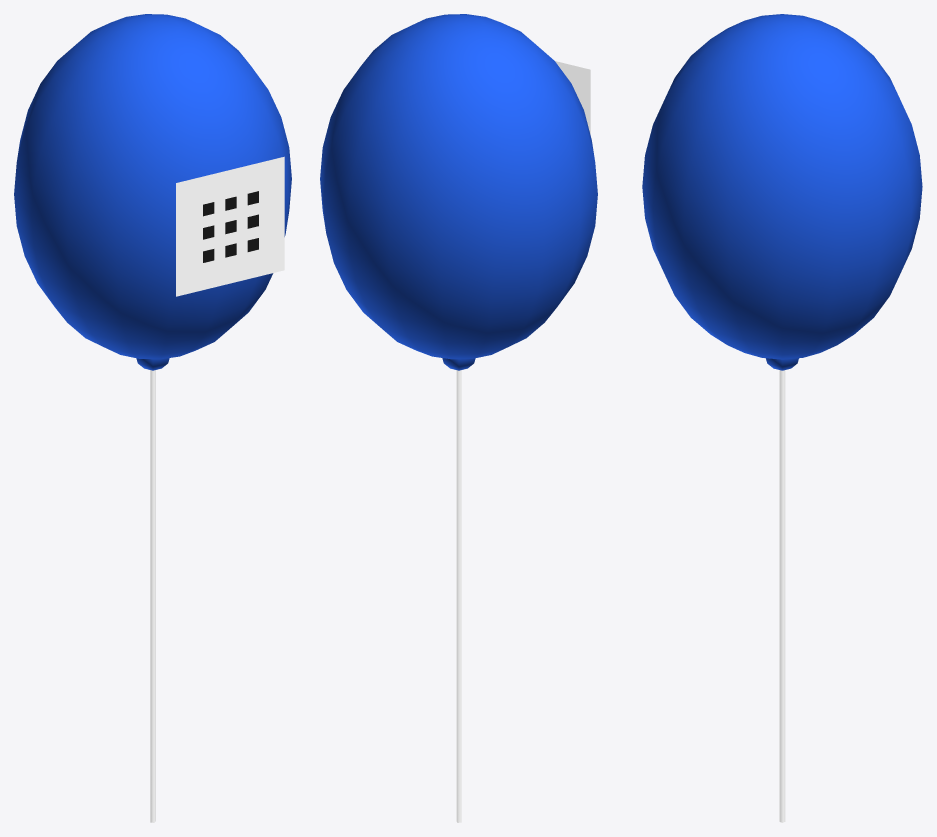
The model's file is balloon-blue.glb.
The picture shows the model from 3 angles, left to right: view 1: azimuth 30°, elevation 25°; view 2: azimuth 150°, elevation 25°; view 3: azimuth 270°, elevation 25°; orthographic projection.
Bounding box in the file's own units: 0.76 × 2.39 × 0.803.
